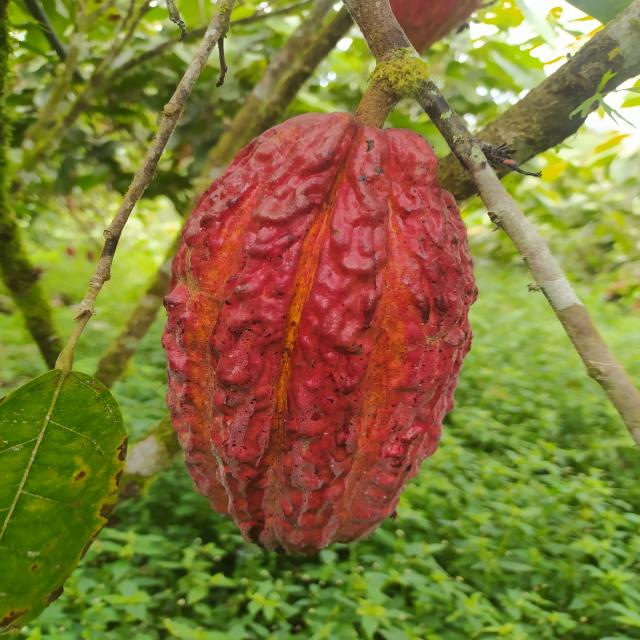Sana: (159, 112, 480, 558)
